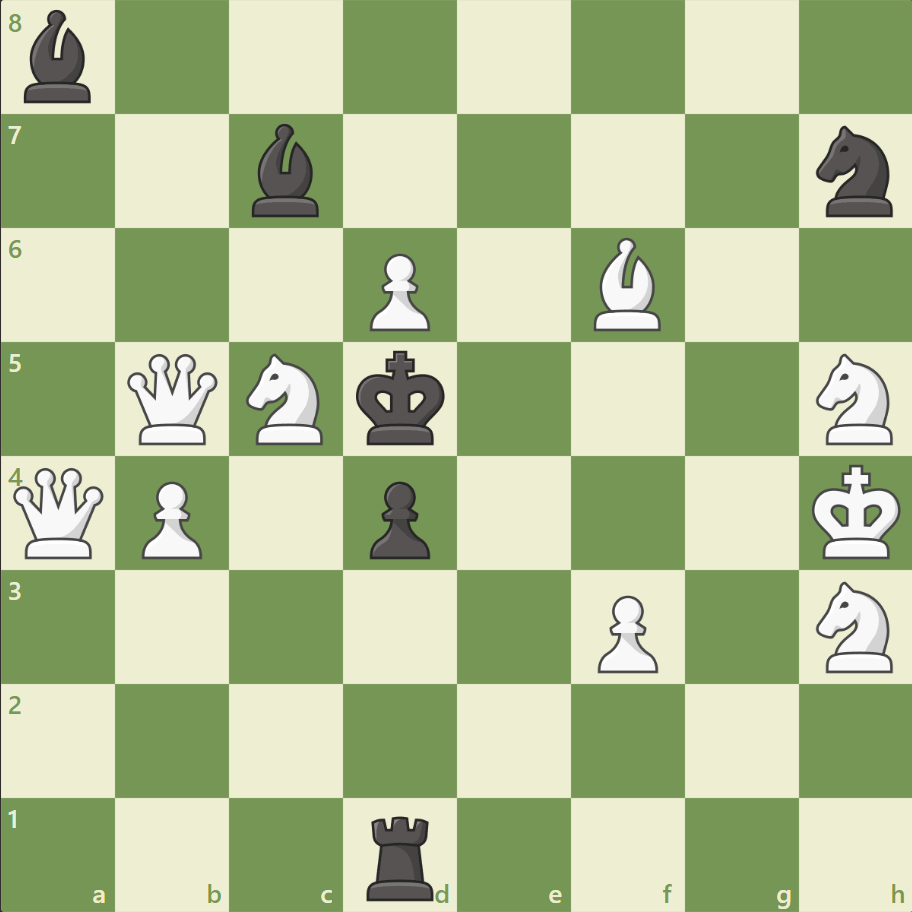B: (585, 233, 669, 336)
K: (806, 458, 906, 566)
N: (238, 348, 335, 450), (806, 348, 903, 450), (806, 575, 903, 677)
P: (133, 473, 208, 564), (361, 246, 435, 337), (588, 586, 662, 677)
Q: (124, 349, 223, 449), (10, 463, 109, 562)
b: (17, 6, 101, 109), (244, 120, 328, 222)
k: (351, 344, 451, 452)
n: (806, 121, 903, 223)
p: (361, 473, 435, 564)
r: (360, 806, 442, 904)
